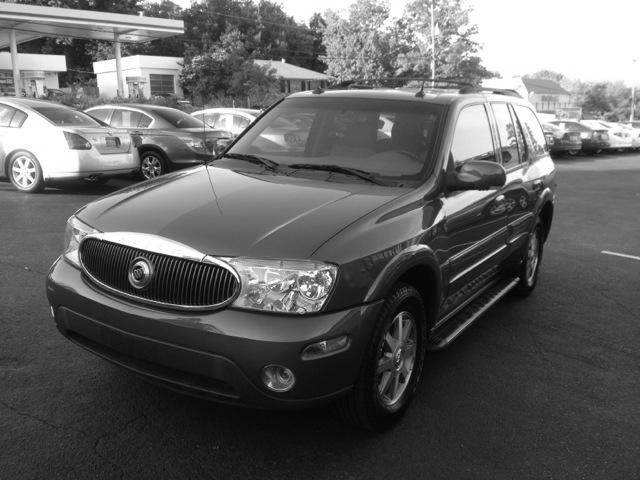car: (43, 78, 561, 433)
